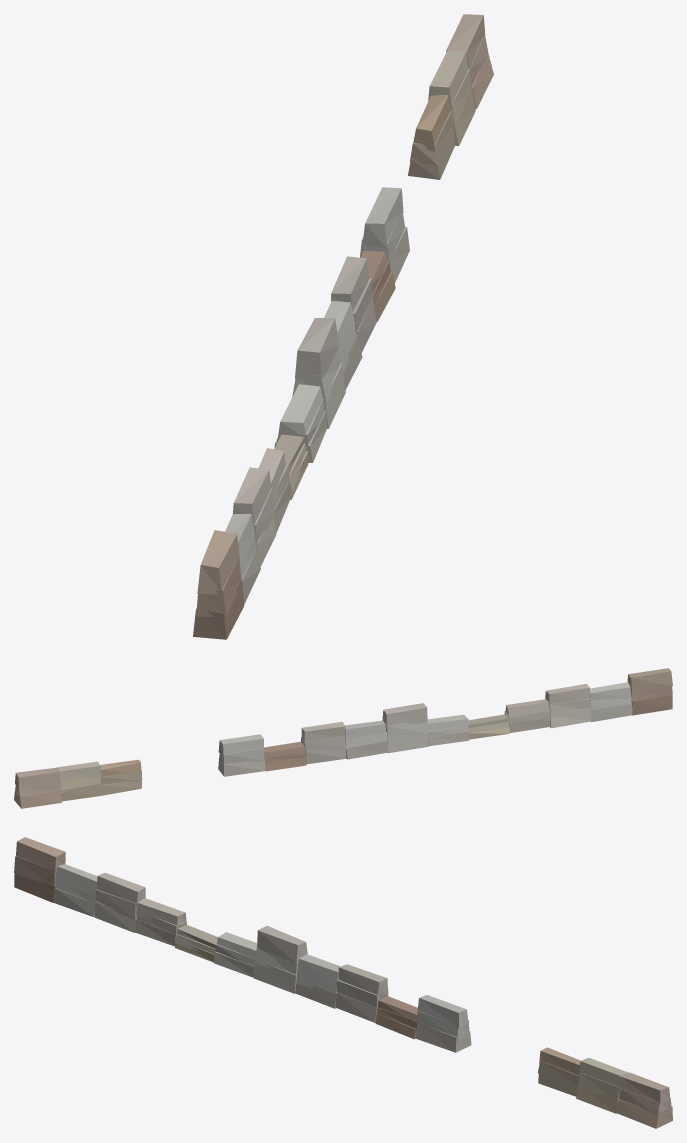
The model's file is farm_-33_-26_mid.glb.
The picture shows the model from 3 angles, top to bottom: view 1: azimuth 30°, elevation 25°; view 2: azimuth 150°, elevation 25°; view 3: azimuth 270°, elevation 25°; orthographic projection. The views are drawn at different scales.
Parts seen in each view (by area): view 1: geometry_0; view 2: geometry_0; view 3: geometry_0.
Boxes of the visible parts, x1,y1,x2,y2 form: geometry_0: (193, 14, 493, 639); geometry_0: (14, 668, 672, 808); geometry_0: (14, 837, 672, 1128).
Size of the model in its own units: 16.85 by 1.6 by 19.23.
